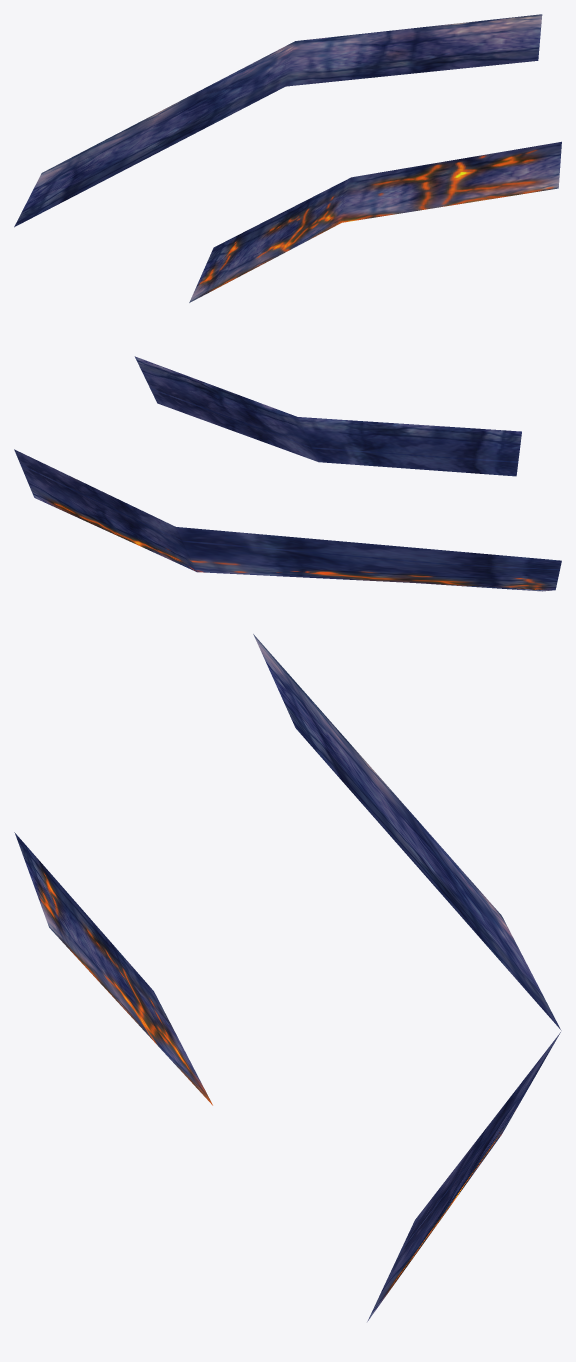
3 renders of one model, top to bottom at view 1: azimuth 30°, elevation 25°; view 2: azimuth 150°, elevation 25°; view 3: azimuth 270°, elevation 25°, orthographic. The views are drawn at different scales.
Visible parts, largest first — view 1: 20; view 2: 20; view 3: 20.
Boxes of the visible parts, bbox=[...] form: 20: bbox=[14, 14, 561, 302]; 20: bbox=[14, 356, 561, 591]; 20: bbox=[14, 634, 561, 1321].
Size of the model in its own units: 13125 by 3796 by 6002.
2 materials, 2 textured.
